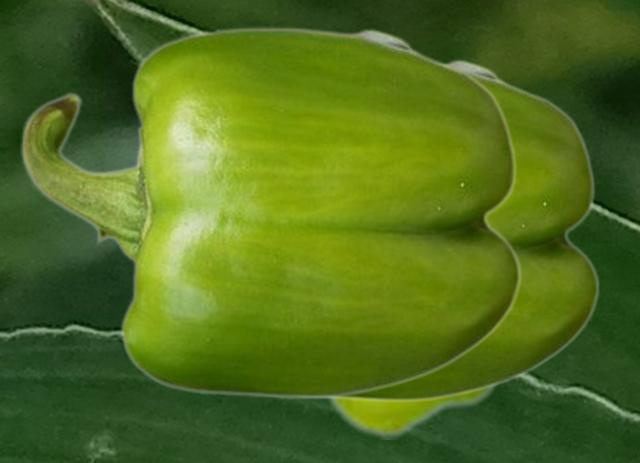bell_pepper: (20, 26, 521, 399), (135, 57, 599, 402), (319, 384, 505, 438)
